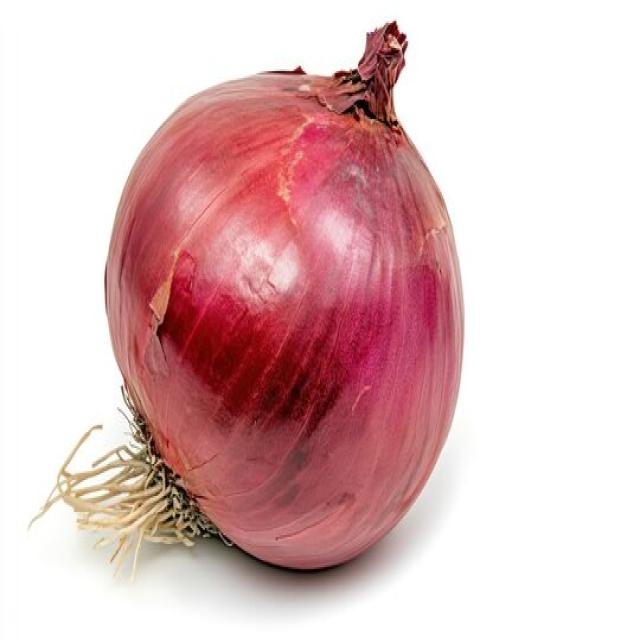Onion: (27, 18, 466, 578)
